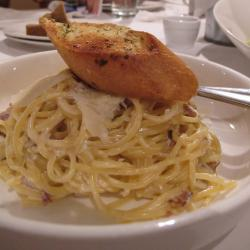bread: (33, 11, 216, 113)
carbonara: (5, 74, 245, 232)
